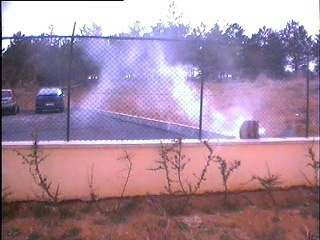smoke: (71, 22, 244, 137)
